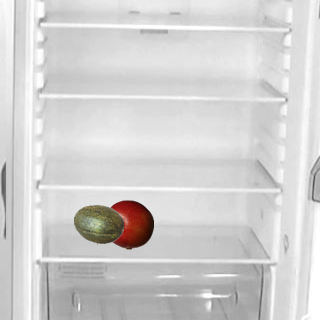Apple Braeburn: (103, 199, 153, 249)
Melon Piel de Sapo: (73, 199, 123, 249)
